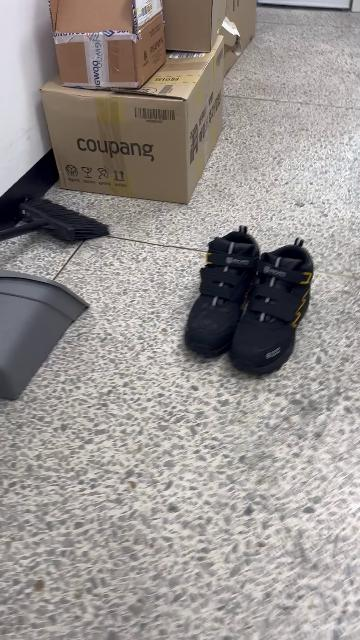shoe_worn: (228, 235, 322, 379), (182, 223, 265, 361)
